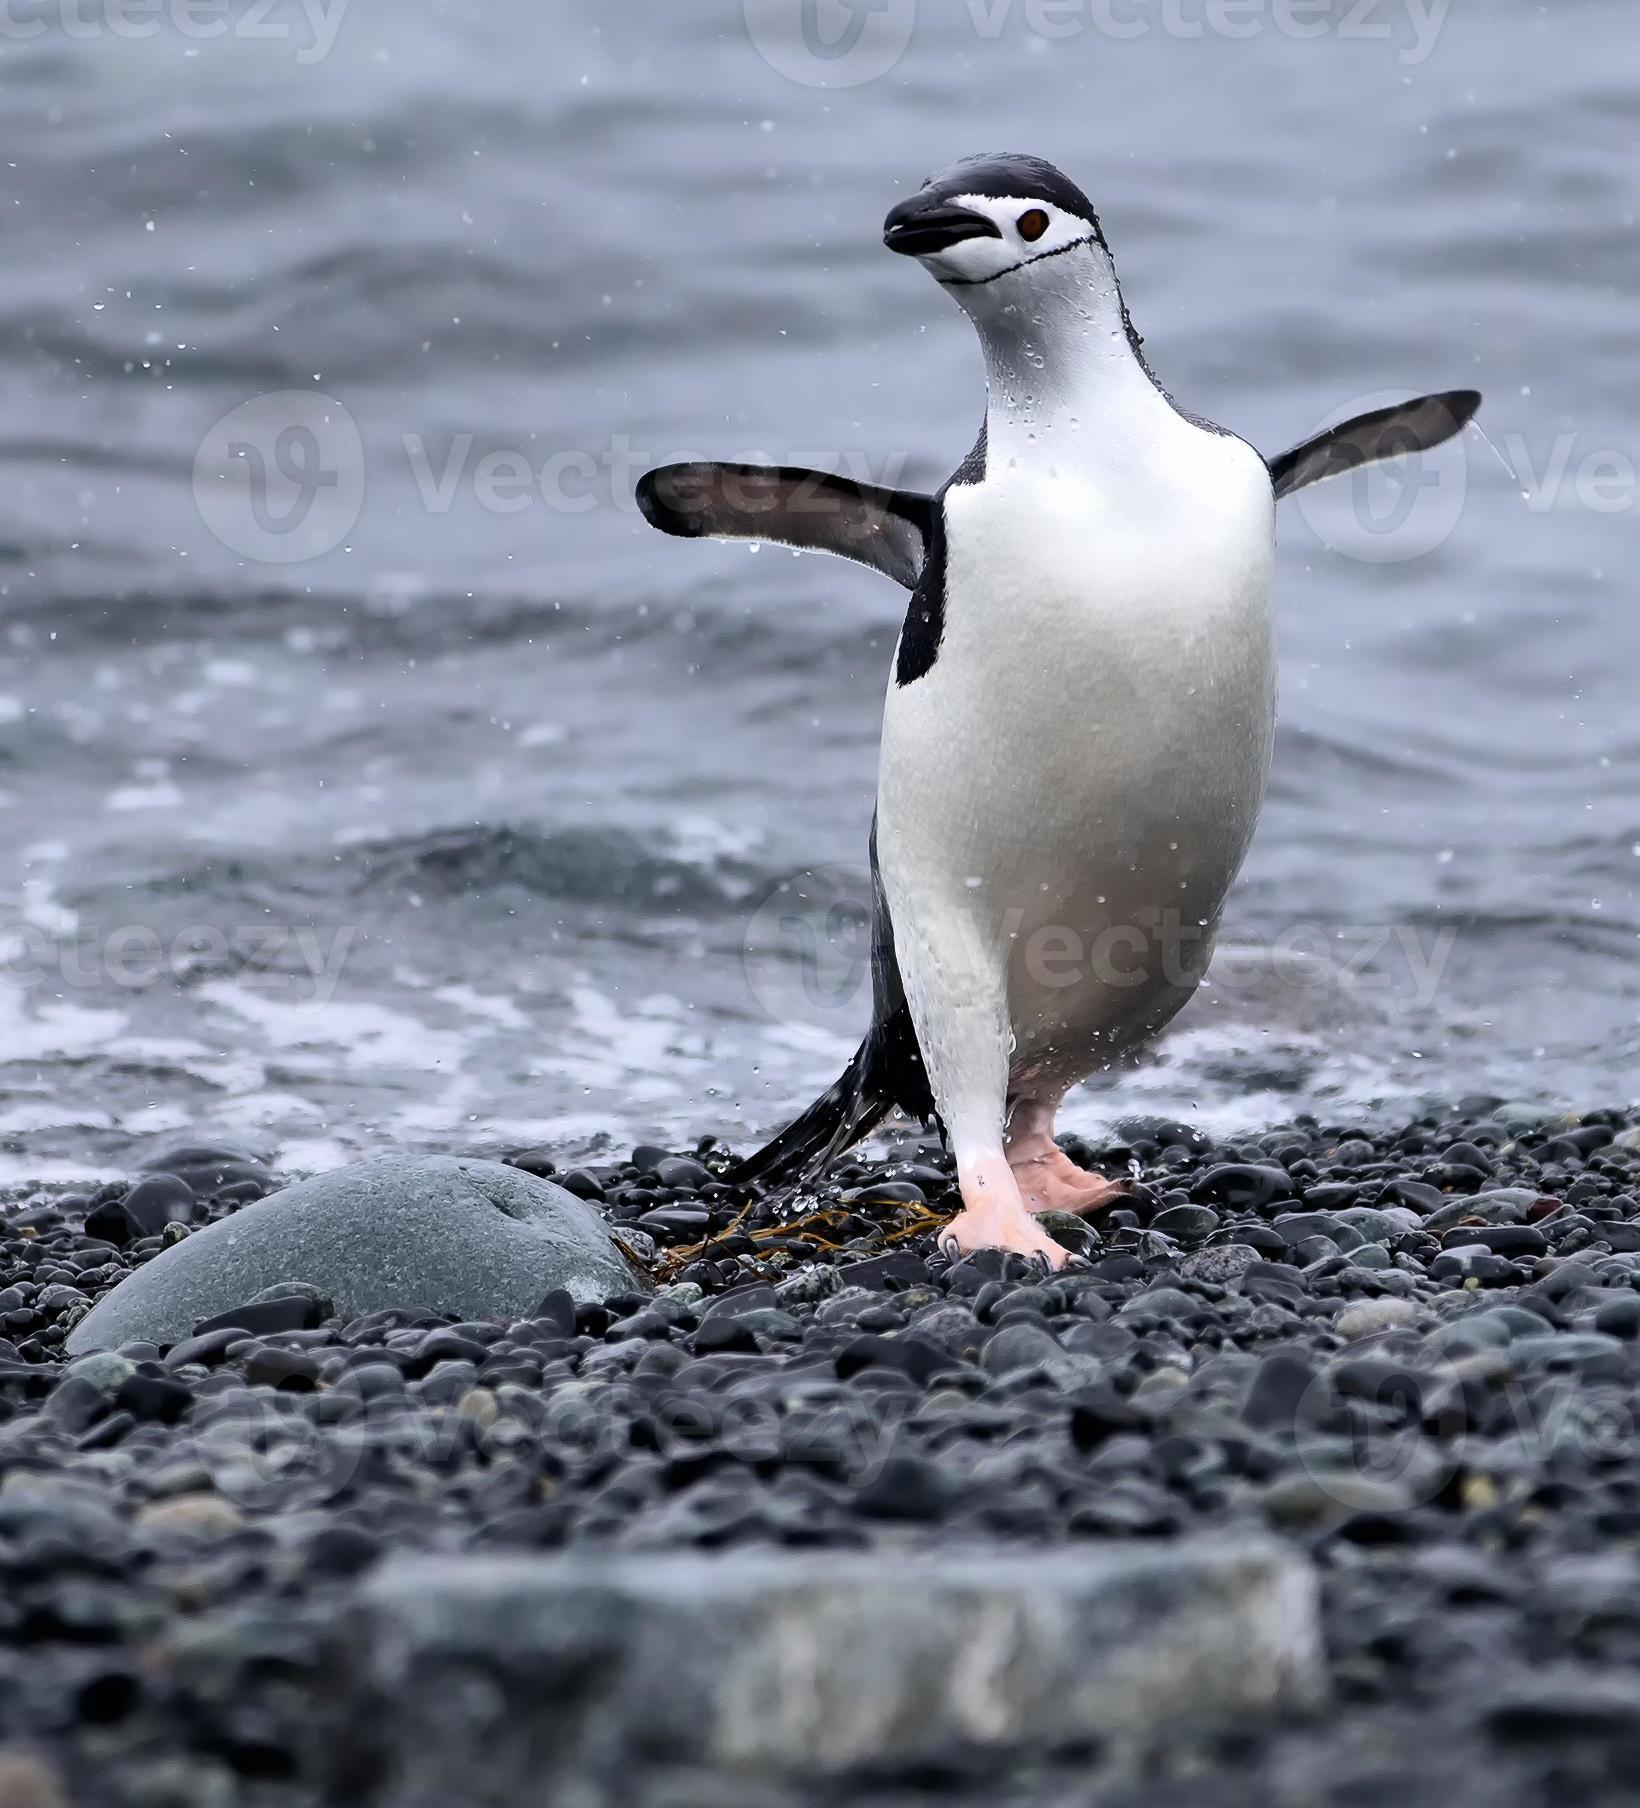chinstrap: (624, 124, 1473, 1291)
